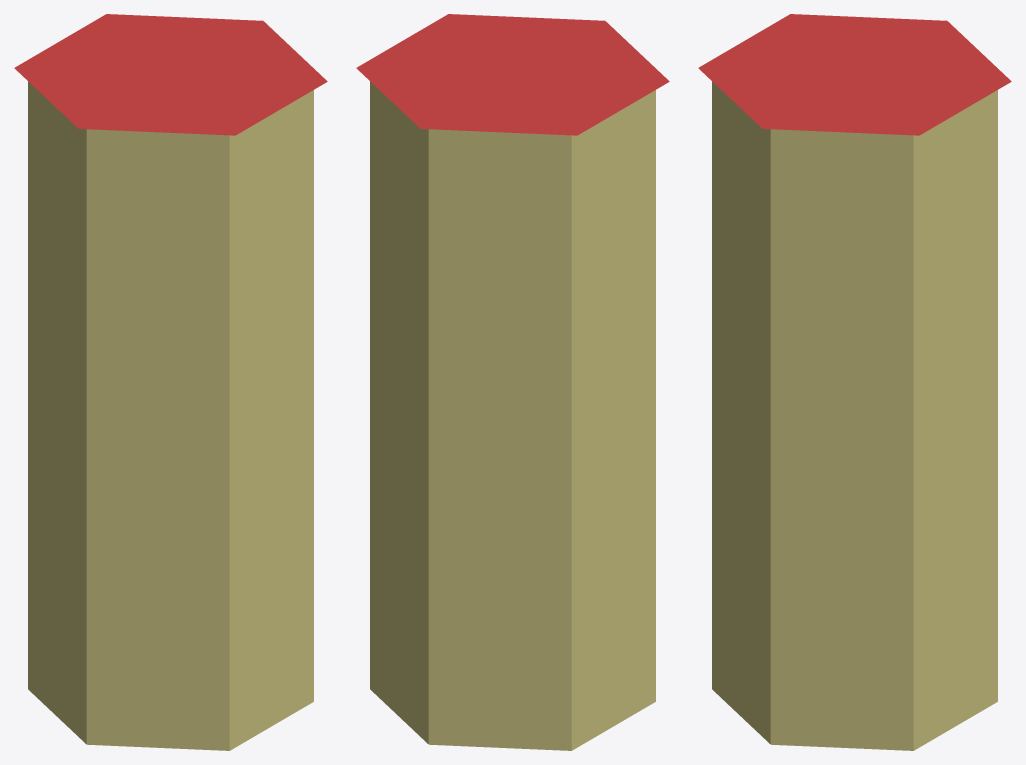
3 renders of one model, left to right at view 1: azimuth 30°, elevation 25°; view 2: azimuth 150°, elevation 25°; view 3: azimuth 270°, elevation 25°, orthographic.
Bounding box in the file's own units: 5.89 × 6.43 × 14.02.
